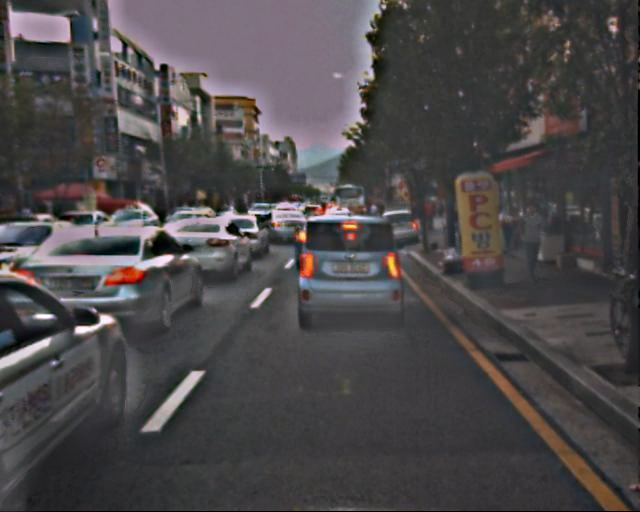person: (515, 202, 549, 286)
